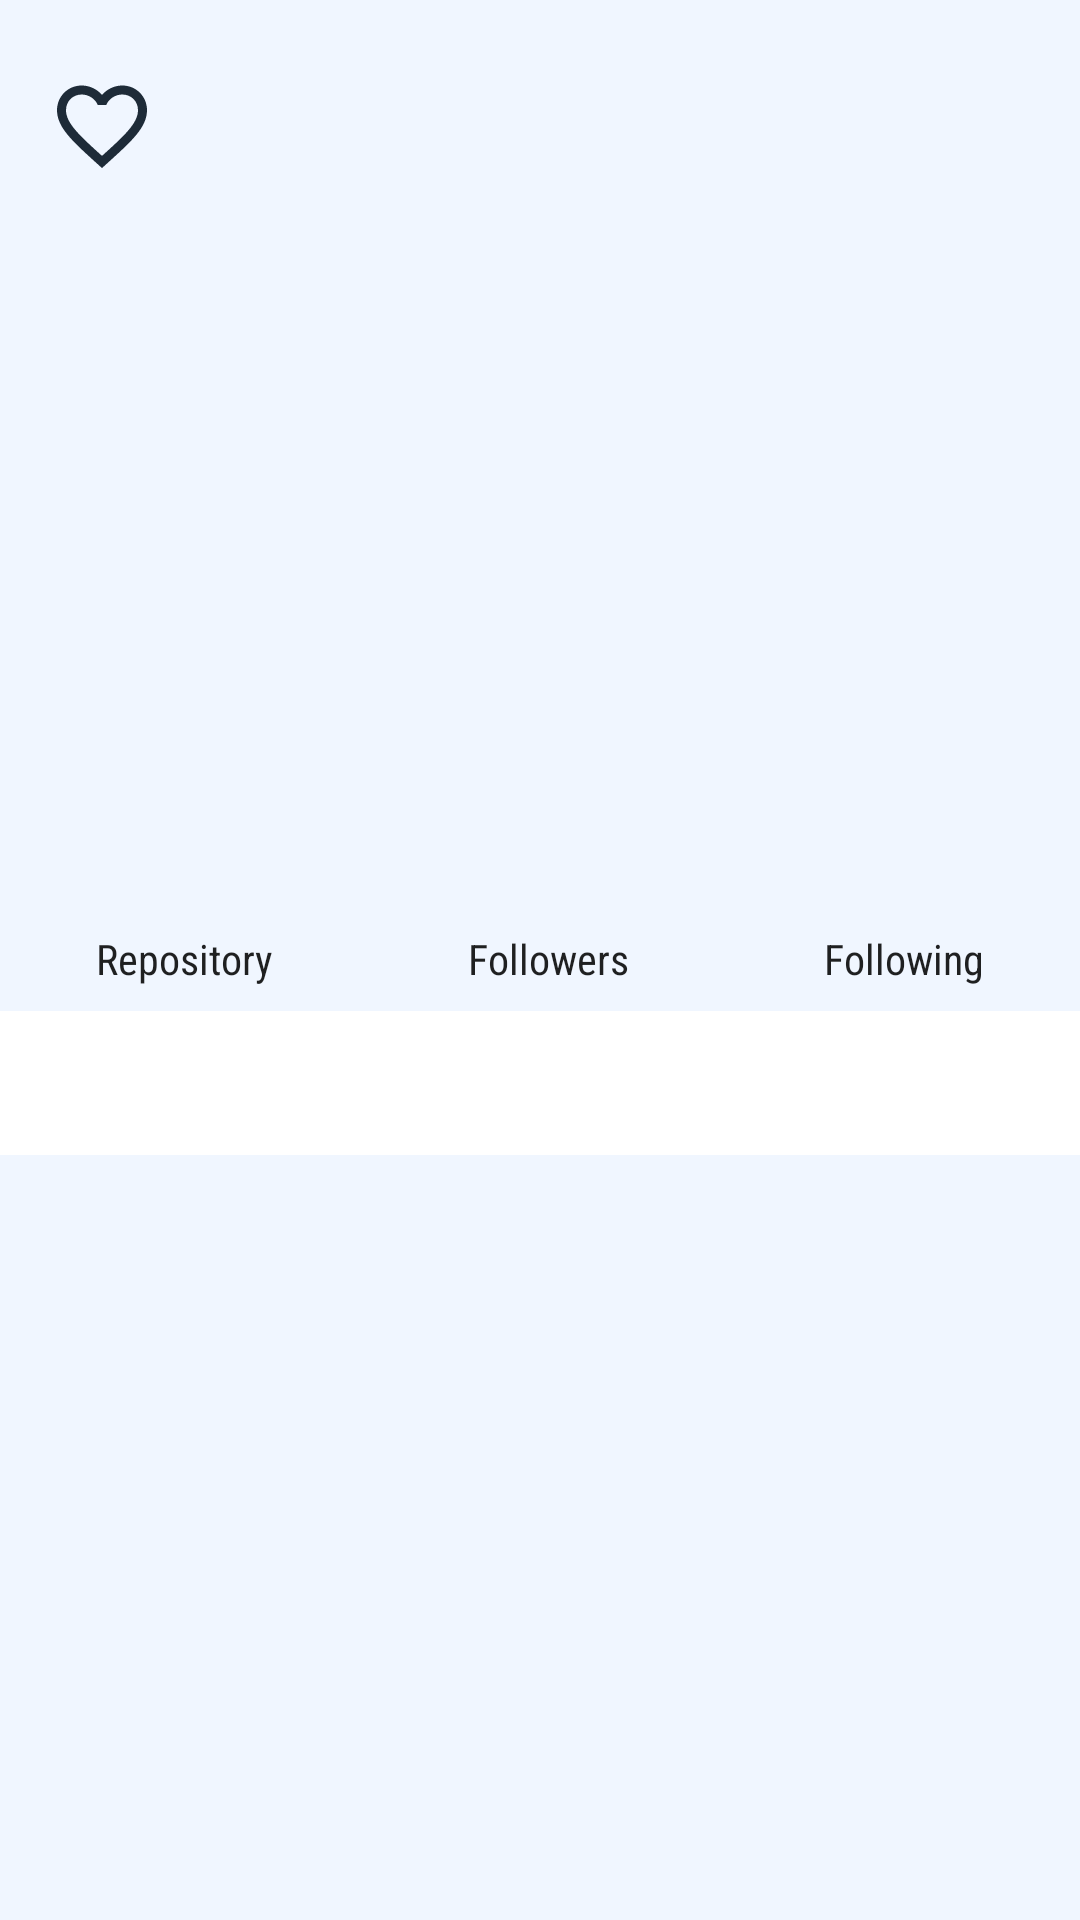

Screen size 1080 × 1920. Icon name, then its box in pixels as bbox=(x1, y1, x2, y2):
unfavorite: bbox=(57, 85, 147, 168)
